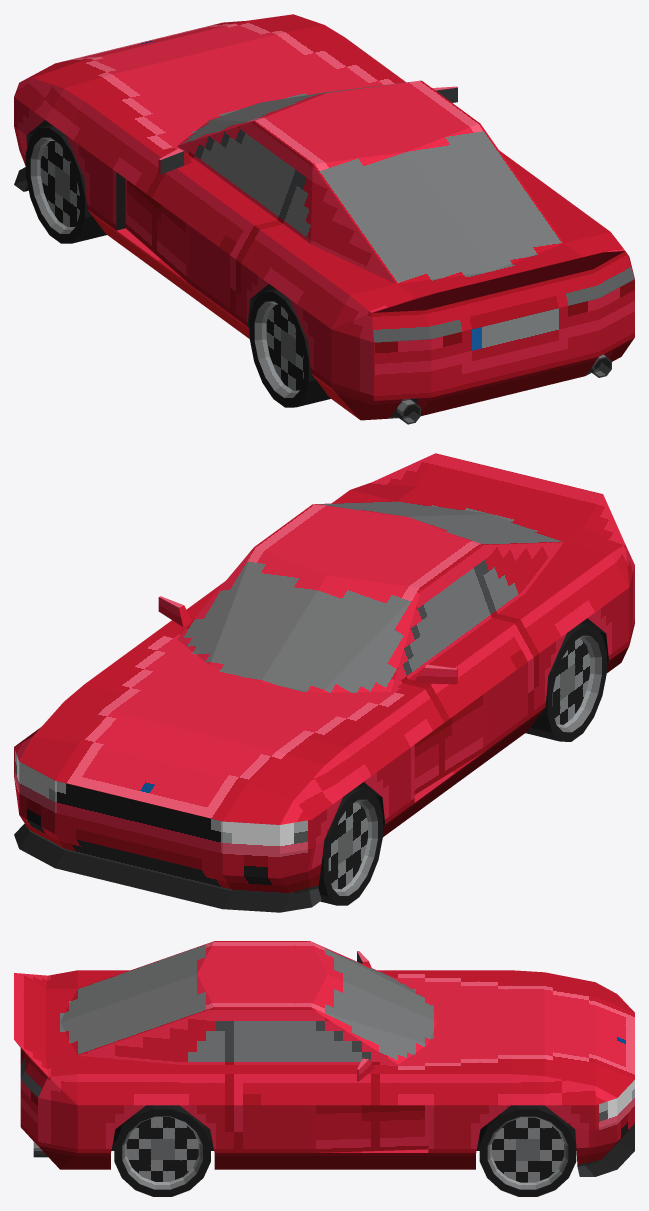
Rendered from racecar.gltf.
3 views of the same model, one above another, from view 1: azimuth 30°, elevation 25°; view 2: azimuth 150°, elevation 25°; view 3: azimuth 270°, elevation 25° (orthographic). The views are drawn at different scales.
Parts seen in each view (by area): view 1: car_body, front_left_wheel, rear_left_wheel; view 2: car_body, rear_left_wheel, front_left_wheel, left_sidemirror; view 3: car_body, front_right_wheel, rear_right_wheel.
Boxes of the visible parts, x1,y1,x2,y2 form: car_body: [14, 14, 634, 420]; front_left_wheel: [25, 125, 106, 243]; rear_left_wheel: [249, 289, 330, 407]; car_body: [14, 453, 634, 912]; rear_left_wheel: [525, 623, 606, 741]; front_left_wheel: [318, 787, 382, 905]; left_sidemirror: [413, 664, 457, 684]; car_body: [14, 941, 634, 1176]; front_right_wheel: [479, 1105, 576, 1196]; rear_right_wheel: [114, 1105, 210, 1196].
Size of the model in its own units: 1 by 0.6406 by 2.21.
Materials: 1 (1 with a texture image).
